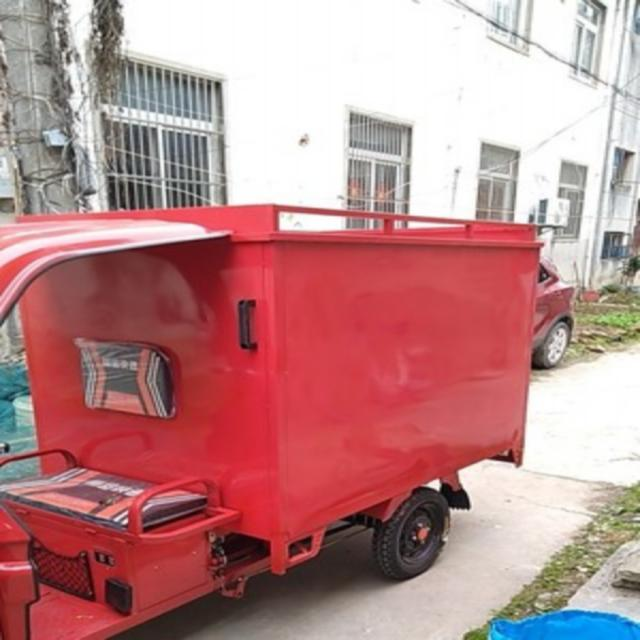car: (527, 255, 574, 366)
tricycle: (2, 204, 542, 638)
